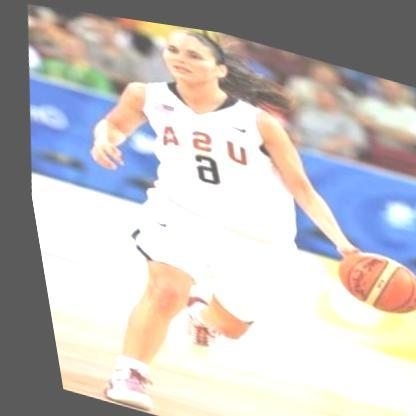basketball: (322, 229, 416, 312)
